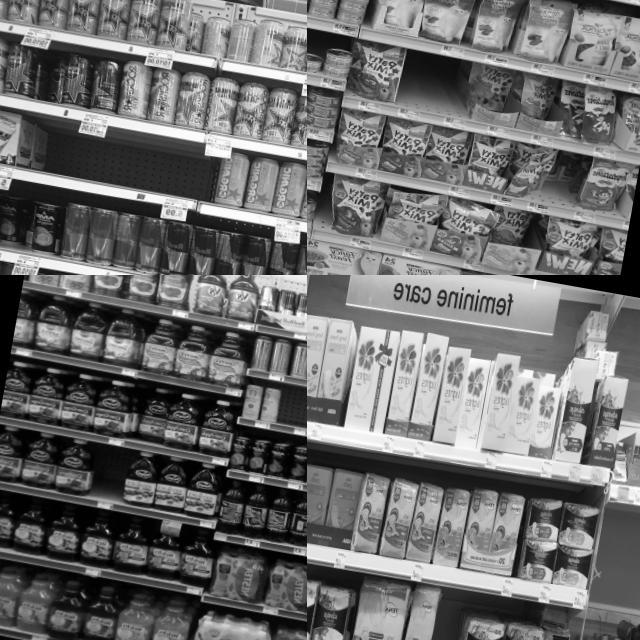void: (41, 127, 200, 209), (398, 51, 459, 126), (90, 446, 128, 510), (421, 596, 463, 640)
